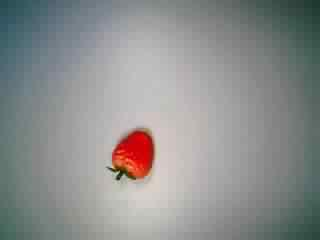strawberry: (96, 120, 162, 186)
